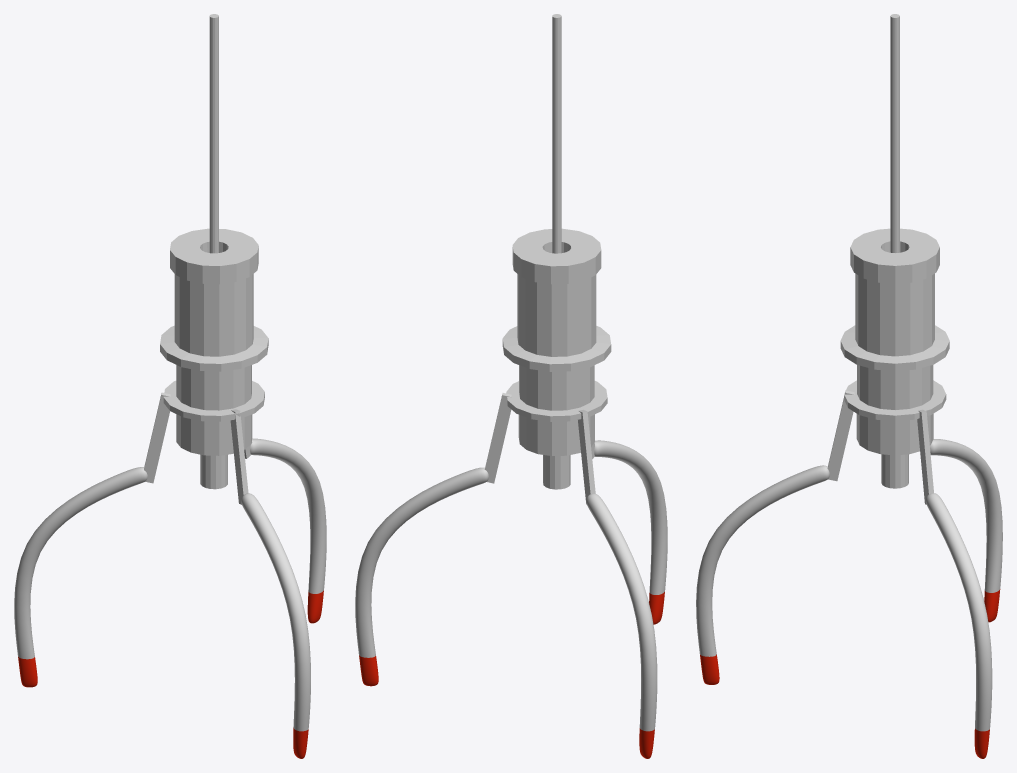
File: claw.fbx
3 views of the same model, side by side, from view 1: azimuth 30°, elevation 25°; view 2: azimuth 150°, elevation 25°; view 3: azimuth 270°, elevation 25° (orthographic).
Visible parts, largest first — view 1: Cylinder.020, Plane.004, Plane.005, Plane.003, Cube.009, Cube.001; view 2: Cylinder.020, Plane.003, Plane.004, Plane.005, Cube.008, Cube.009; view 3: Cylinder.020, Plane.005, Plane.003, Plane.004, Cube.001, Cube.008.
Boxes of the visible parts, x1,y1,x2,y2 form: Cylinder.020: [160, 14, 268, 489]; Plane.004: [14, 467, 147, 687]; Plane.005: [241, 493, 310, 758]; Plane.003: [250, 438, 326, 623]; Cube.009: [144, 392, 170, 483]; Cube.001: [230, 409, 248, 504]; Cylinder.020: [502, 14, 611, 489]; Plane.003: [355, 467, 488, 686]; Plane.004: [586, 493, 657, 758]; Plane.005: [594, 440, 667, 624]; Cube.008: [484, 393, 511, 483]; Cube.009: [578, 409, 595, 504]; Cylinder.020: [840, 14, 949, 488]; Plane.005: [696, 465, 829, 684]; Plane.003: [926, 493, 992, 758]; Plane.004: [930, 439, 1002, 622]; Cube.001: [827, 390, 854, 481]; Cube.008: [917, 409, 933, 504].
Size of the model in its own units: 58.53 by 123 by 51.01.
